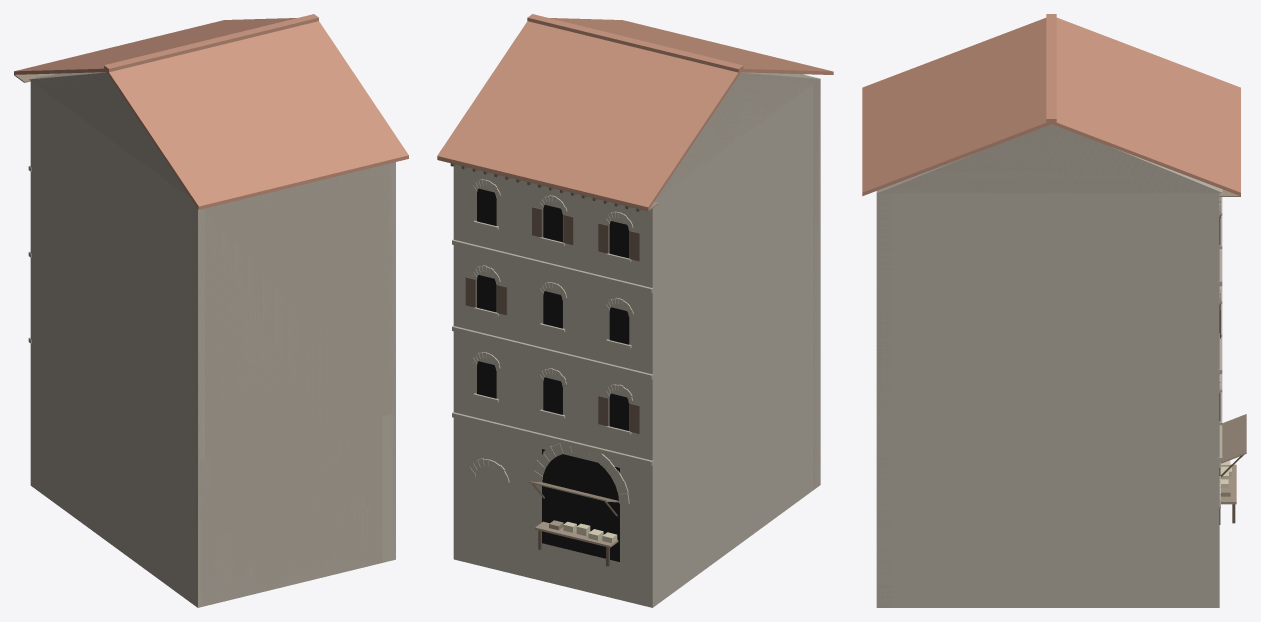
Rendered from casa-82-3-pietra.glb.
3 renders of one model, left to right at view 1: azimuth 30°, elevation 25°; view 2: azimuth 150°, elevation 25°; view 3: azimuth 270°, elevation 25°, orthographic. The views are drawn at different scales.
Parts seen in each view (by area): view 1: vicino, lontano; view 2: vicino, lontano, aperta; view 3: vicino, lontano, aperta.
Boxes of the visible parts, x1=… form: vicino: x1=14, y1=14, x2=408, y2=607; lontano: x1=14, y1=69, x2=408, y2=606; vicino: x1=437, y1=14, x2=833, y2=607; lontano: x1=437, y1=69, x2=833, y2=607; aperta: x1=529, y1=481, x2=619, y2=566; vicino: x1=862, y1=14, x2=1240, y2=607; lontano: x1=862, y1=122, x2=1240, y2=607; aperta: x1=1220, y1=414, x2=1246, y2=523.
Size of the model in its own units: 8.7 by 18.98 by 13.45.
